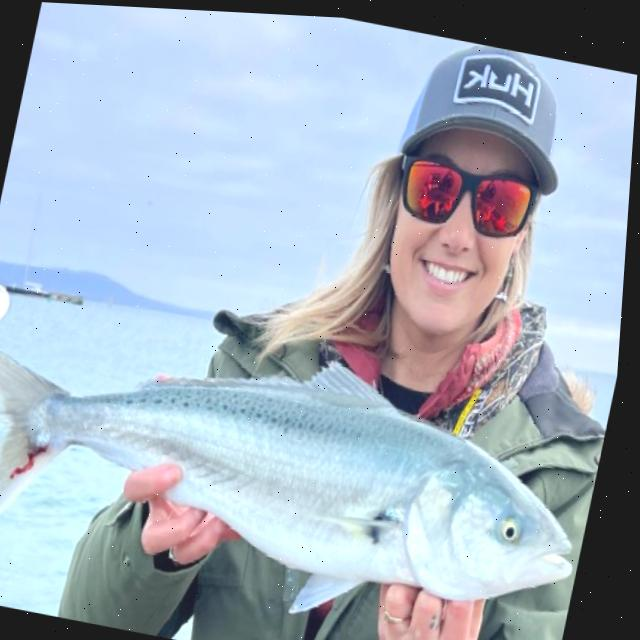Australian Salmon: (0, 277, 622, 640)
